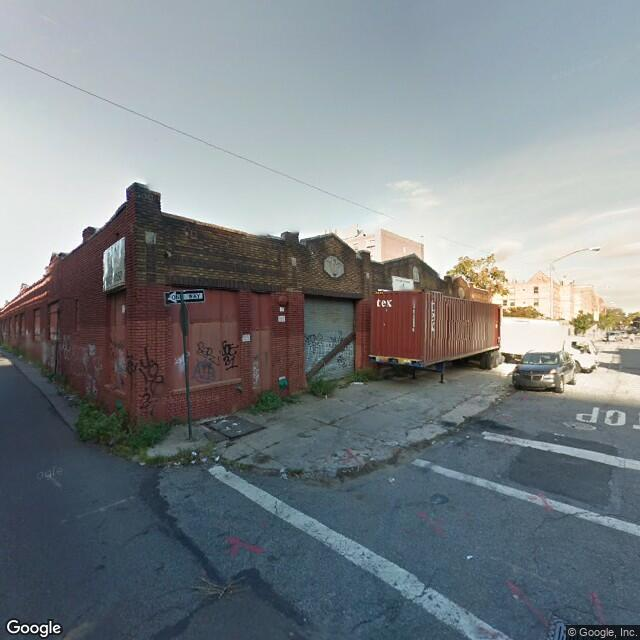litter: (138, 461, 145, 465), (214, 454, 220, 458), (191, 452, 196, 456), (174, 460, 180, 463), (191, 460, 197, 463), (390, 479, 398, 481), (468, 555, 473, 558), (202, 458, 205, 461), (233, 420, 237, 422), (226, 426, 231, 427), (467, 436, 468, 437)
